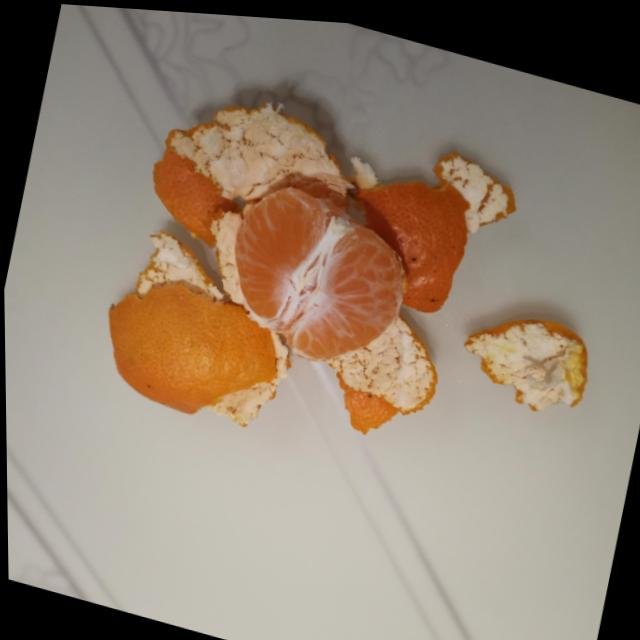Wet: (88, 60, 527, 486), (453, 290, 598, 416)
